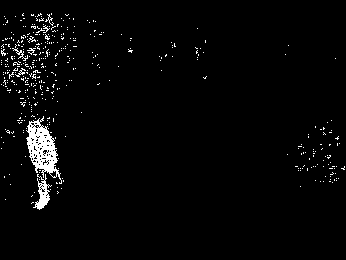person: (20, 117, 67, 214)
